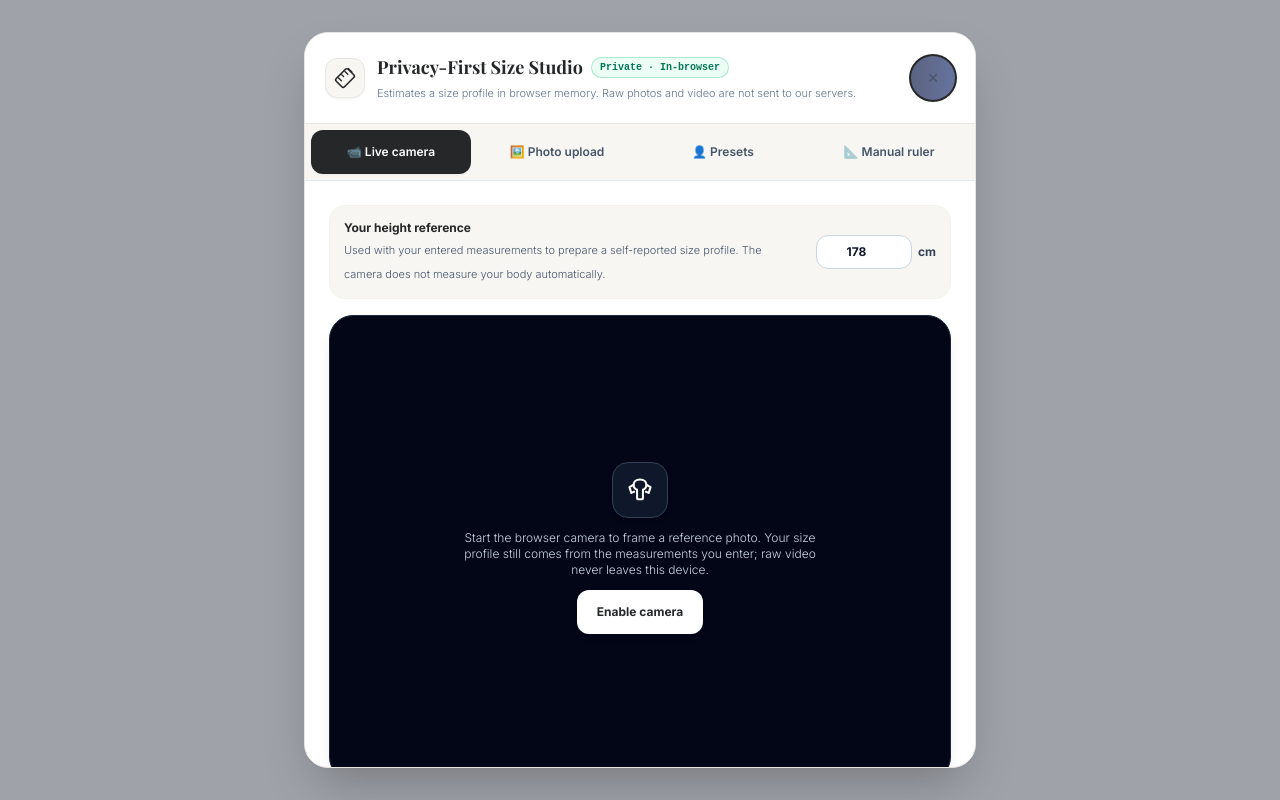
Scenario: CameraScanModal responsive and privacy contract › reports an unsupported camera context instead of leaving a blank stage
The width and height of the screenshot is (1280, 800).
Click the button "Enable camera".
click(640, 612)  # box x1=577 y1=590 x2=703 y2=634
(page scrolled)
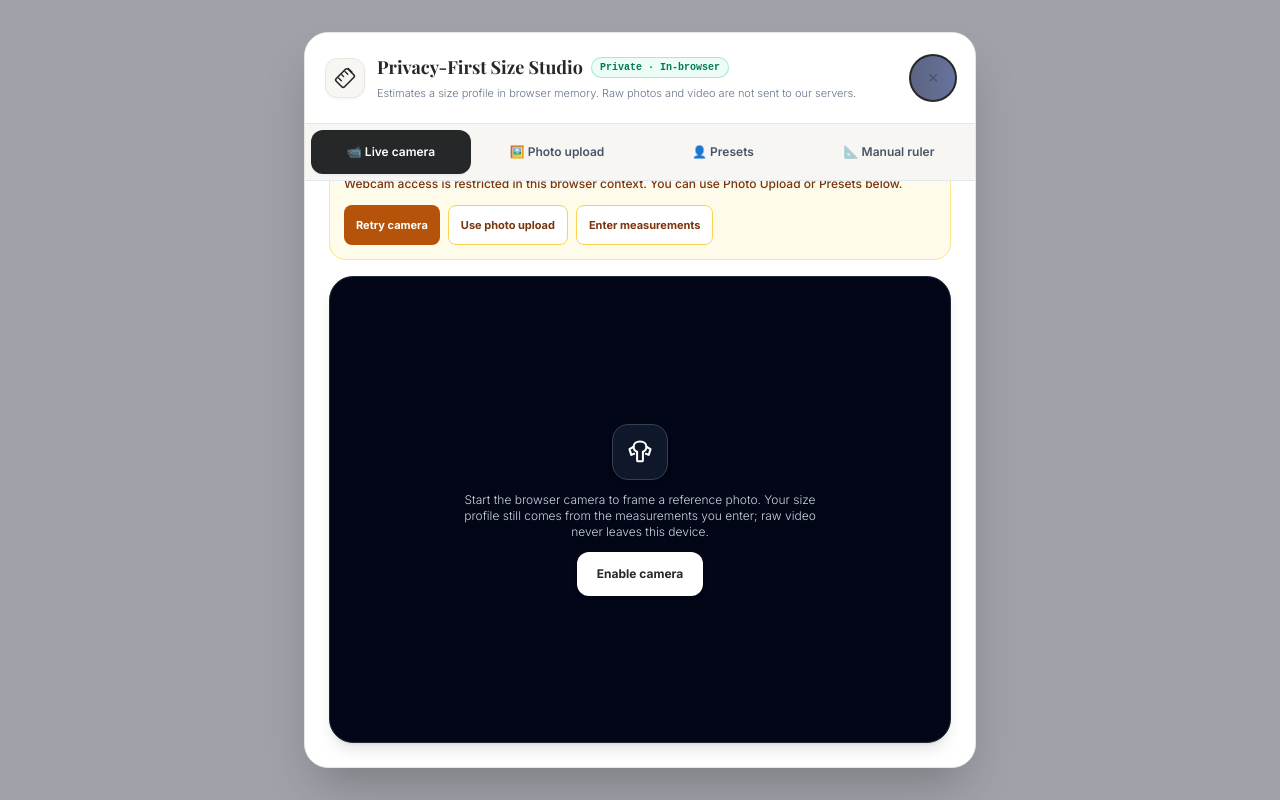
Expected: the element with test id "camera-empty-state" is shown, x1=464 y1=424 x2=816 y2=596
Result: the message shows "restricted" at x1=344 y1=181 x2=902 y2=191
